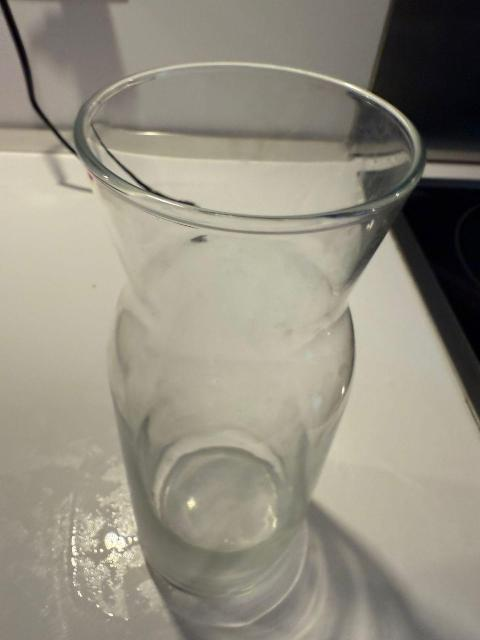Cam: (77, 59, 421, 589)
